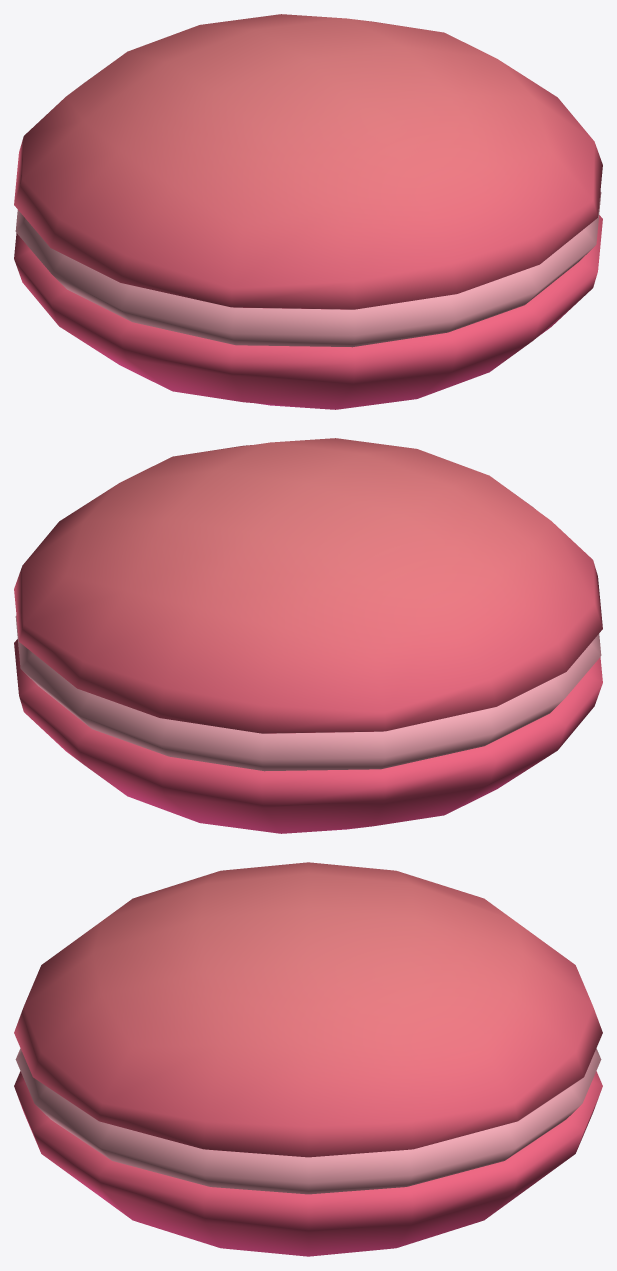
The model's file is cookie_006.fbx.
3 views of the same model, one above another, from view 1: azimuth 30°, elevation 25°; view 2: azimuth 150°, elevation 25°; view 3: azimuth 270°, elevation 25° (orthographic).
Visible parts, largest first — view 1: cookie_006; view 2: cookie_006; view 3: cookie_006.
Part boxes in pixels (x1,y1,x2,y2): cookie_006: (14, 14, 602, 409); cookie_006: (14, 438, 602, 833); cookie_006: (14, 862, 602, 1256).
Bounding box in the file's own units: 5.37 × 5.37 × 3.02.
